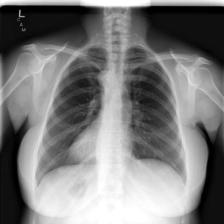normal: (33, 42, 189, 191)
